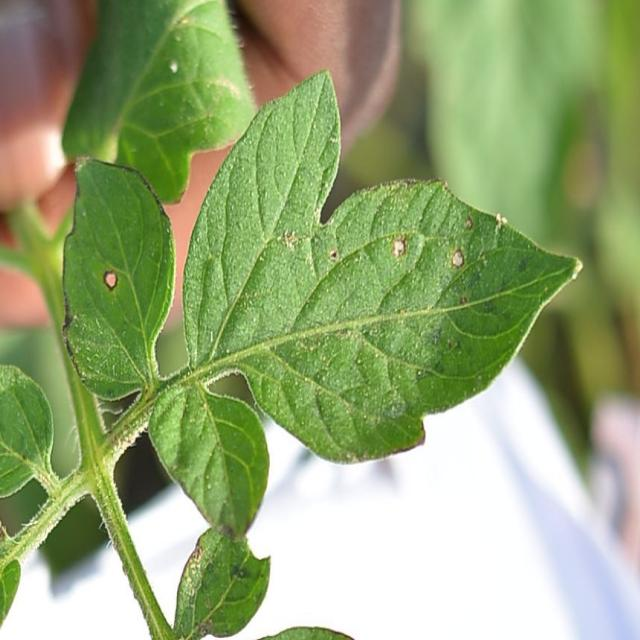infected: (270, 169, 584, 337), (186, 506, 278, 640), (77, 232, 136, 308)
